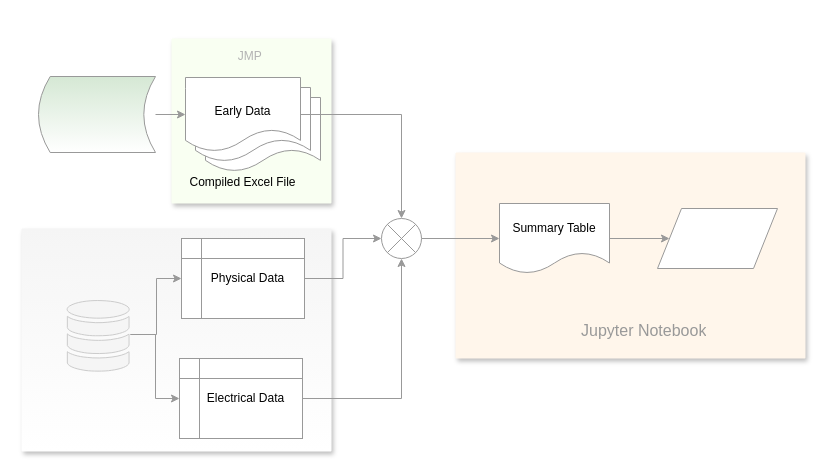
The diagram is 828 pixels wide and 476 high, and some of its shapes have lost their labels. Each missing label, with the centre of its shape:
Hard Disk: the point at 97,114
MS SQL Server: the point at 98,336
Report: the point at 717,238
